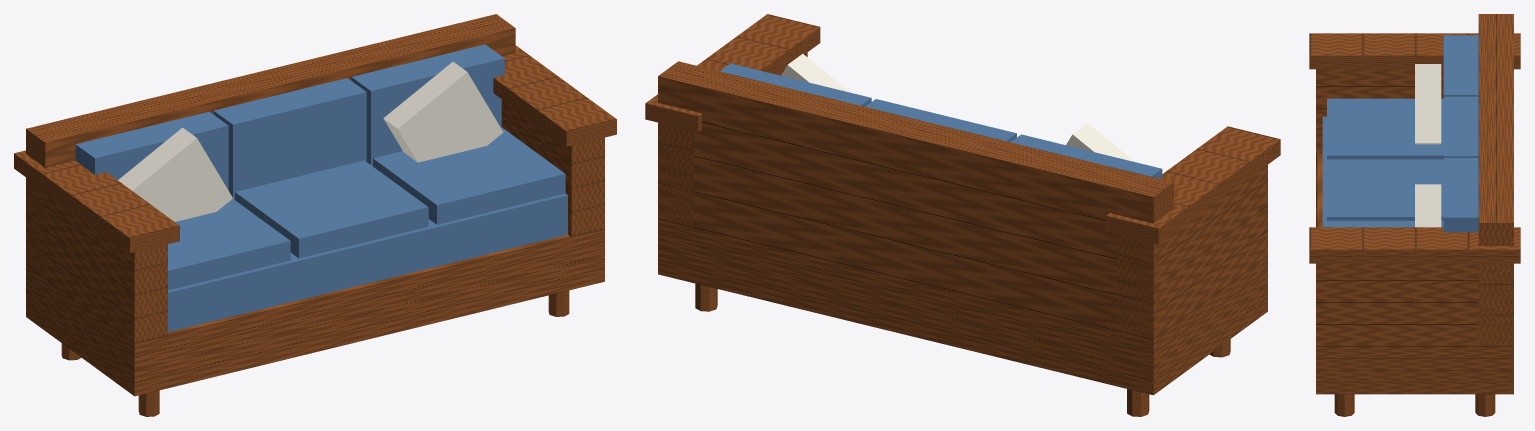
File: sofa_modern.glb
3 renders of one model, left to right at view 1: azimuth 30°, elevation 25°; view 2: azimuth 150°, elevation 25°; view 3: azimuth 270°, elevation 25°, orthographic. The views are drawn at different scales.
Visible parts, largest first — view 1: cruise-ship-deck-and-lounge-lounge-sofa; view 2: cruise-ship-deck-and-lounge-lounge-sofa; view 3: cruise-ship-deck-and-lounge-lounge-sofa.
Boxes of the visible parts, left/top/right/bottom form: cruise-ship-deck-and-lounge-lounge-sofa: left=14, top=14, right=616, bottom=416; cruise-ship-deck-and-lounge-lounge-sofa: left=645, top=14, right=1280, bottom=416; cruise-ship-deck-and-lounge-lounge-sofa: left=1309, top=14, right=1520, bottom=416.
Bounding box in the file's own units: 2.33 × 1.03 × 0.96.
Materials: 3 (1 with a texture image).
